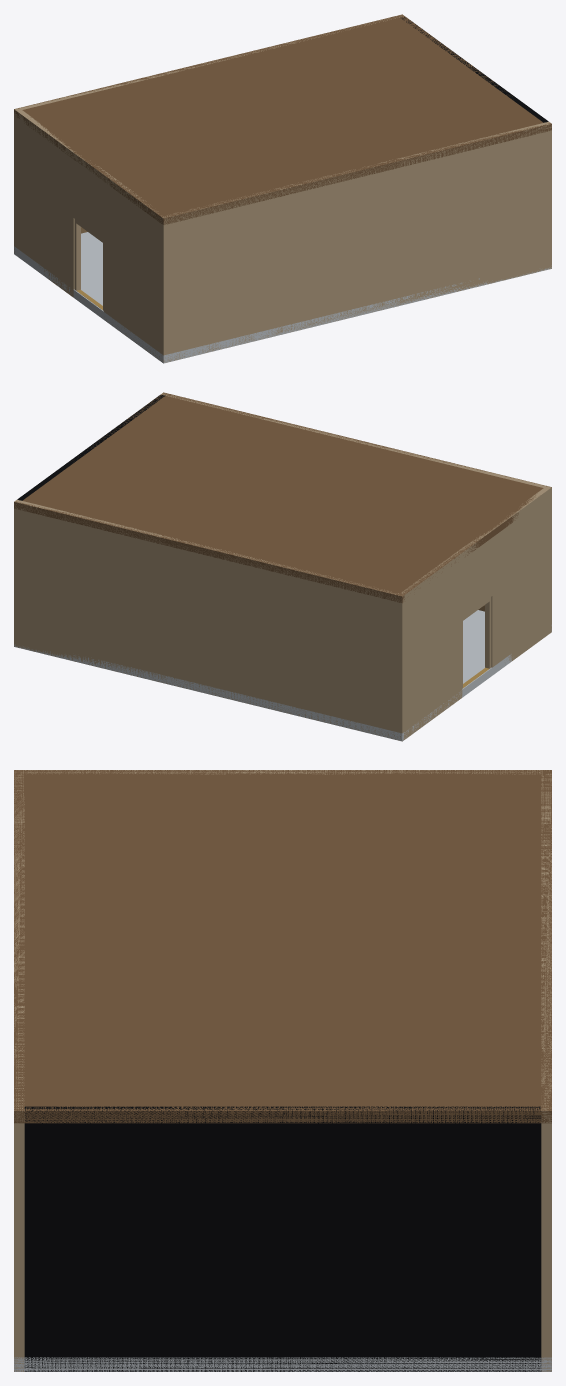
The model's file is pvWinter.glb.
The picture shows the model from 3 angles, top to bottom: view 1: azimuth 30°, elevation 25°; view 2: azimuth 150°, elevation 25°; view 3: azimuth 270°, elevation 25°; orthographic projection. The views are drawn at different scales.
Parts seen in each view (by area): view 1: pvWinter; view 2: pvWinter; view 3: pvWinter.
Part boxes in pixels (box(x1,y1,x2,y2)): pvWinter: box(14, 14, 551, 363); pvWinter: box(14, 392, 551, 741); pvWinter: box(14, 770, 551, 1371).
Size of the model in its own units: 15 by 5.35 by 10.
